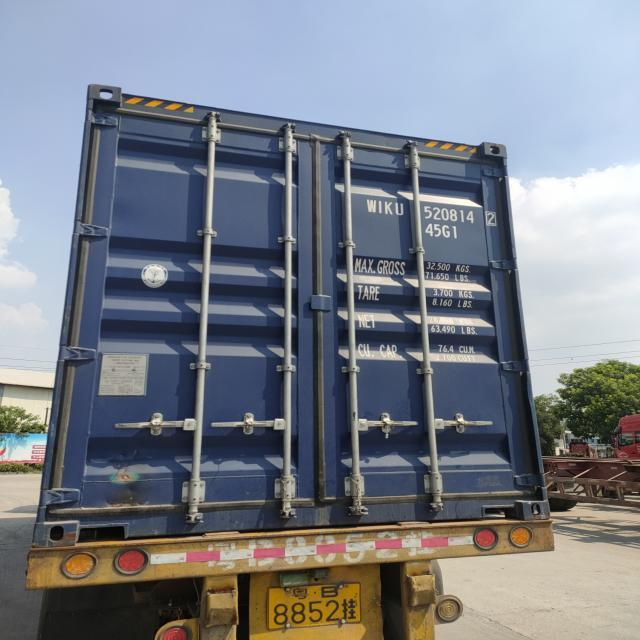ISO: (426, 223, 460, 240)
container_number: (364, 198, 494, 223)
